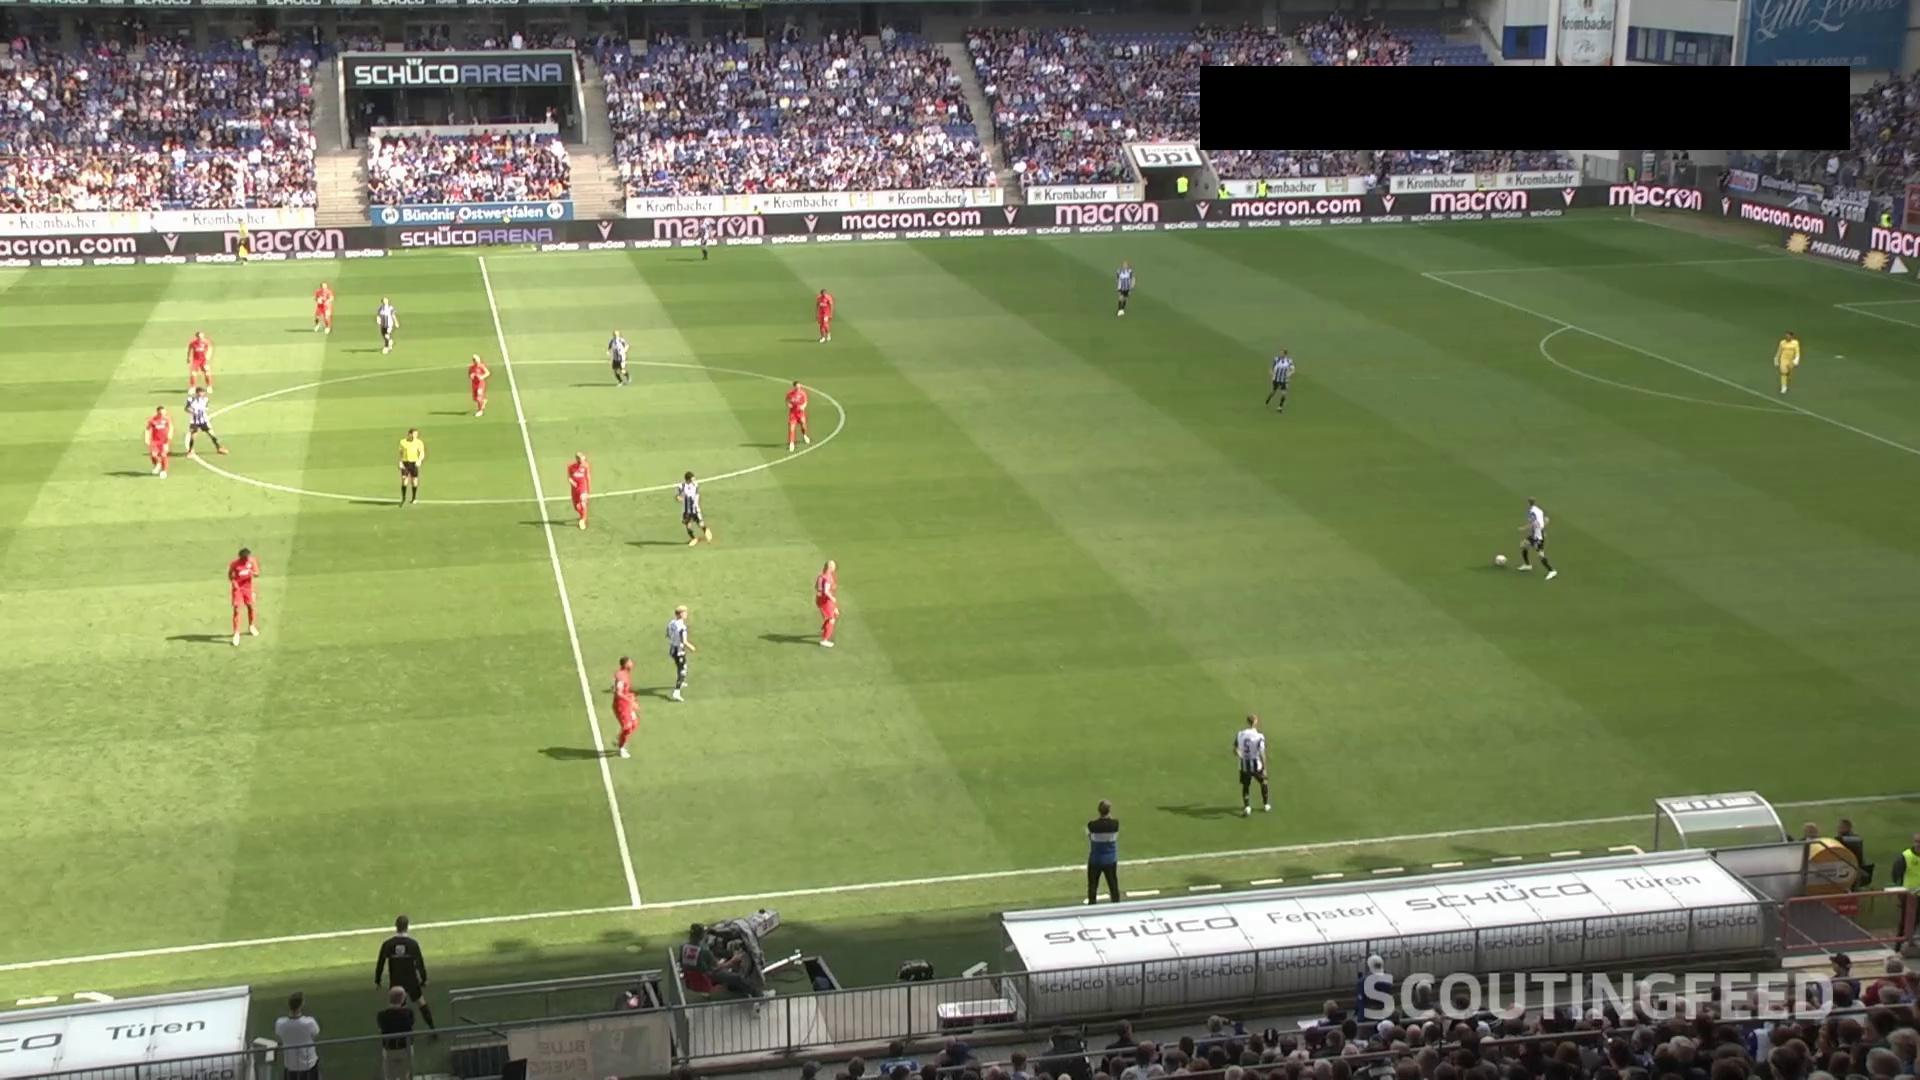Location-of-ball: (1489, 545, 1510, 567)
